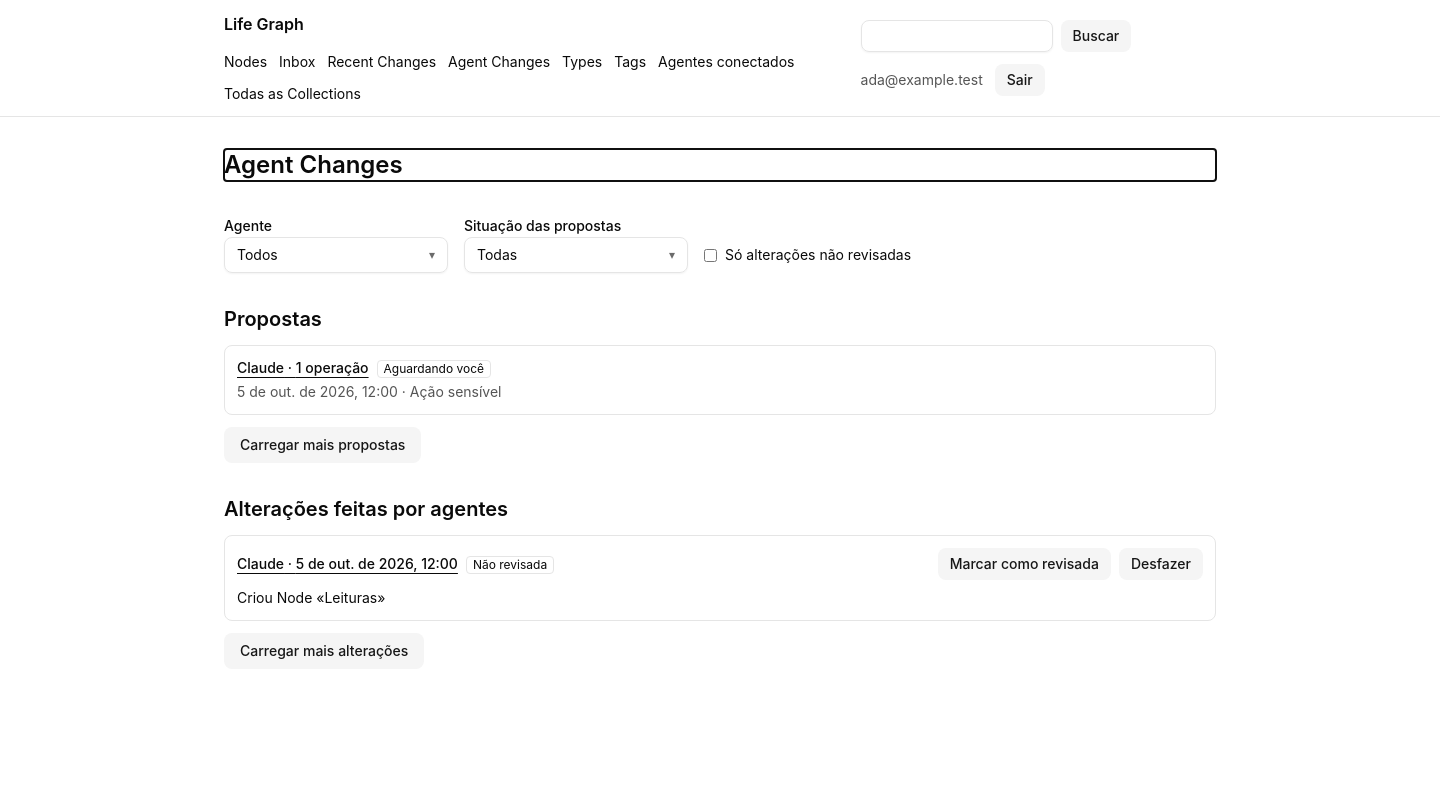
Test: Agent Changes › loads more proposals and more agents' changes by cursor
What coordinates should you click on to do the following:
click the button "Carregar mais propostas"
I would click on:
 (323, 445)
Its box is [224,427,421,463].
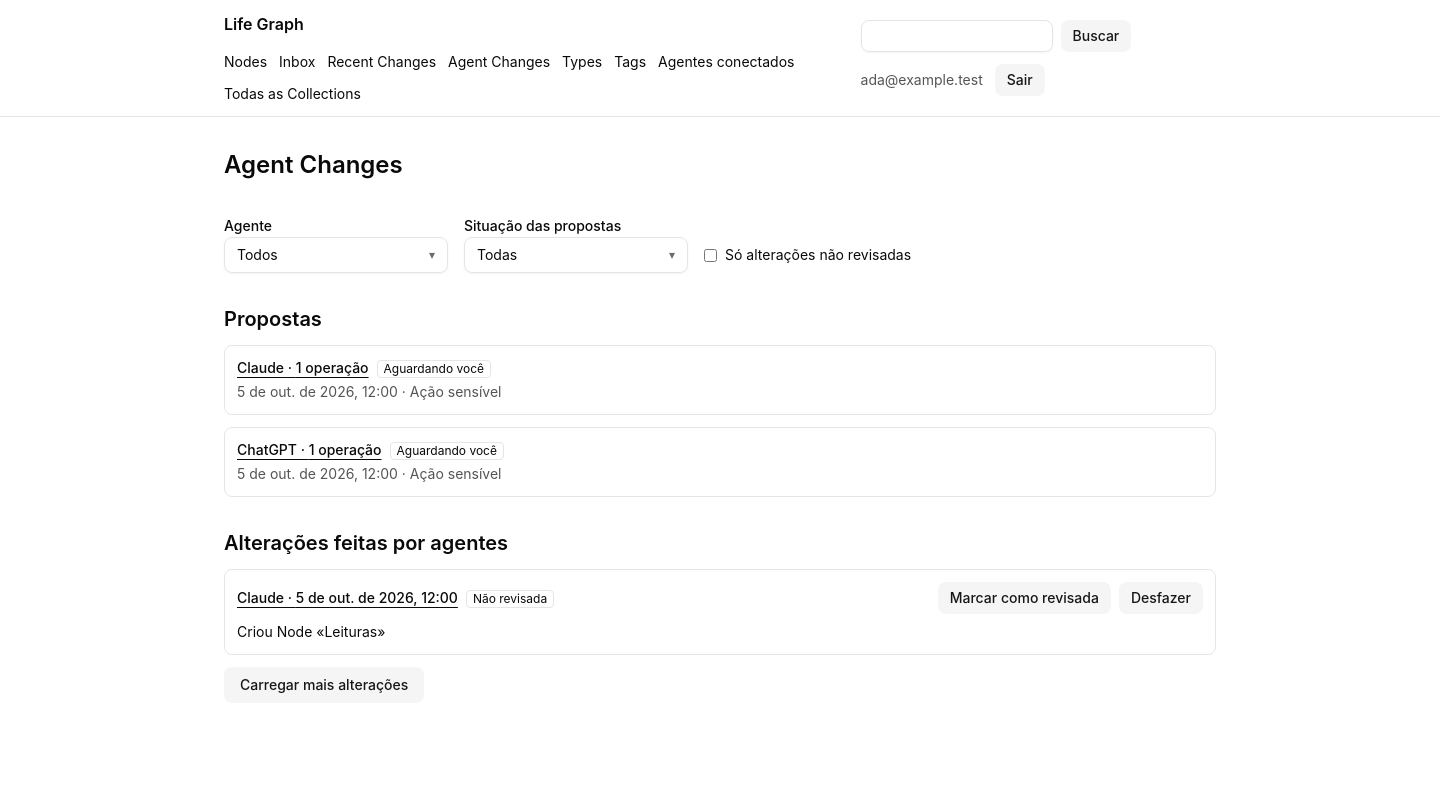
What coordinates should you click on to do the following:
click the button "Carregar mais alterações"
I would click on:
 (324, 685)
Its box is [224,667,424,703].
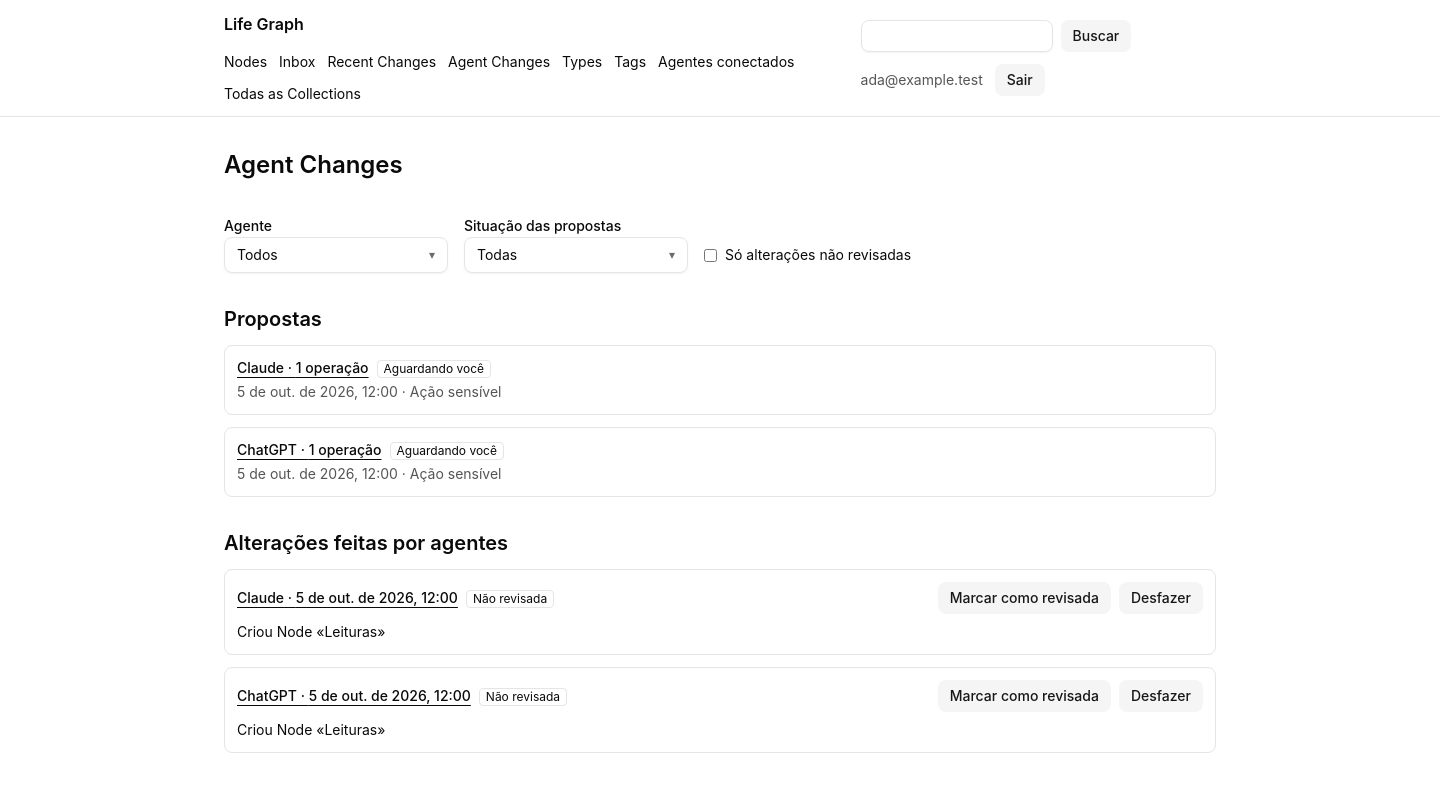
Now the link "ChatGPT · 1 operação" is shown, box [237,440,382,460]
Now the link "ChatGPT · 5 de out. de 2026, 12:00" is shown, box [237,686,471,706]
Now the button "Carregar mais" is gone
